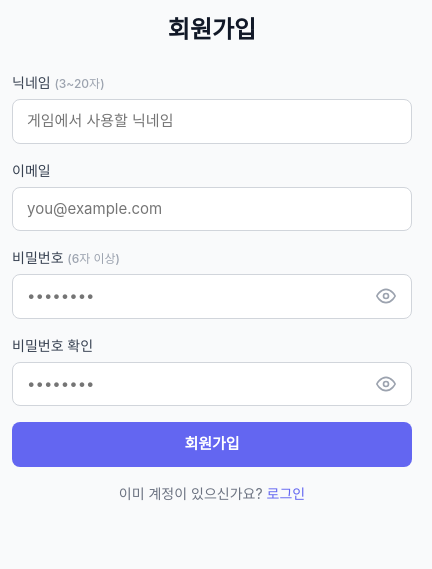
Scenario: SignupForm client validation › 비밀번호가 일치하지 않으면 에러
Type "testuser" into the field labelled "닉네임 (3~20자)" at (212, 121), box x1=12 y1=99 x2=412 y2=144
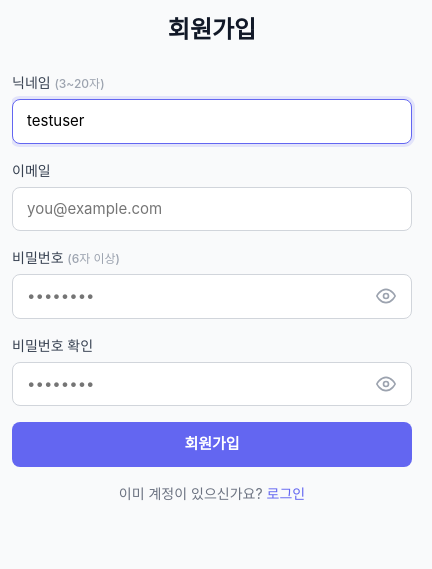
Type "test@example.com" into the field labelled "이메일" at (212, 209), box x1=12 y1=186 x2=412 y2=231
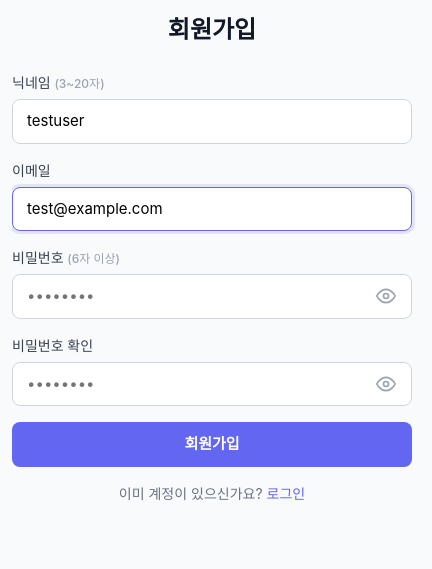
Type "pass123" into the password field labelled "비밀번호 (6자 이상)" at (212, 296), box x1=12 y1=274 x2=412 y2=318
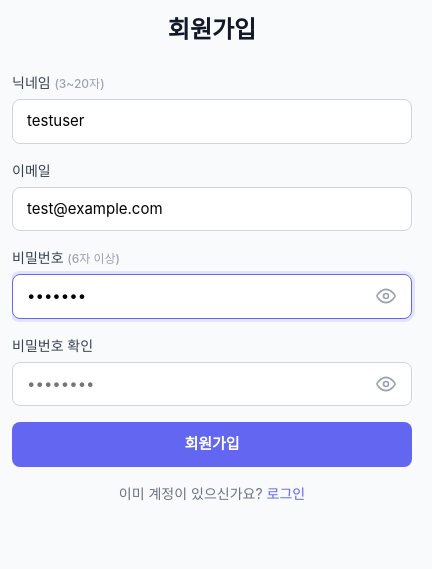
Type "pass456" into the password field labelled "비밀번호 확인" at (212, 384), box x1=12 y1=362 x2=412 y2=406
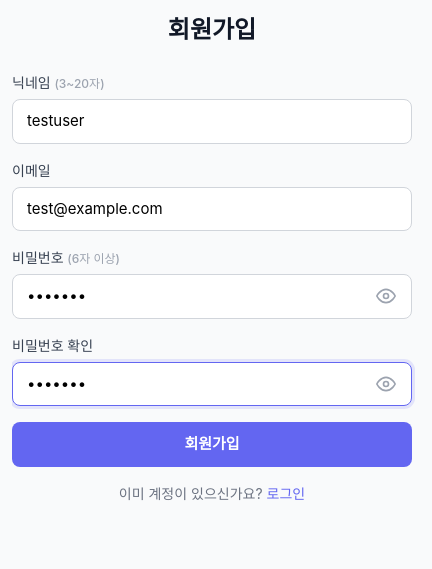
Click the button "회원가입" at (212, 444), box x1=12 y1=422 x2=412 y2=466
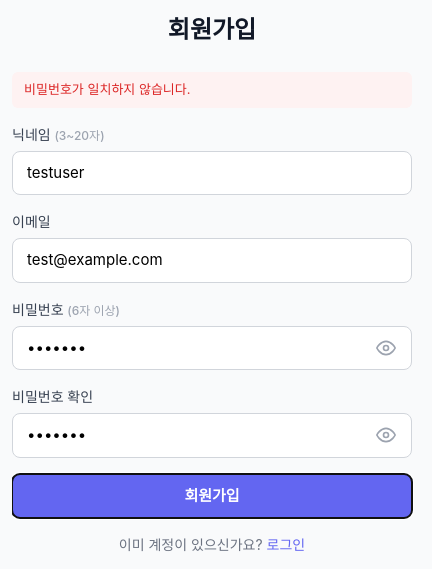
Check: the text "비밀번호가 일치하지 않습니다." is shown, box x1=12 y1=72 x2=412 y2=108
